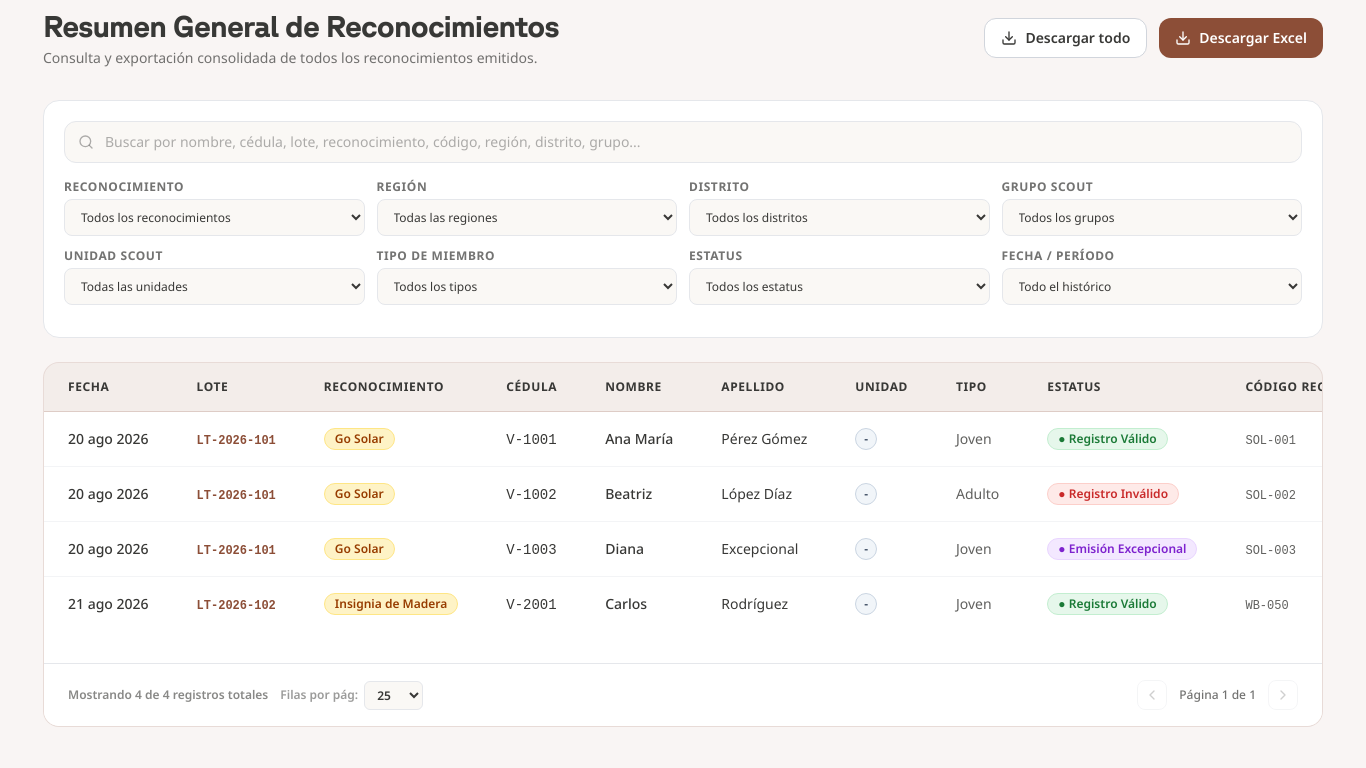
it: SummaryView component › filters by date period and custom date range
The image size is (1366, 768).
expect the text "V-1001" is shown: met, box [506,432,557,448]
Note: Predefined period: Este Año
Select "Este Año" in the dropdown named "Filtrar por período" at [1152, 286], box [1002,268,1302,305]
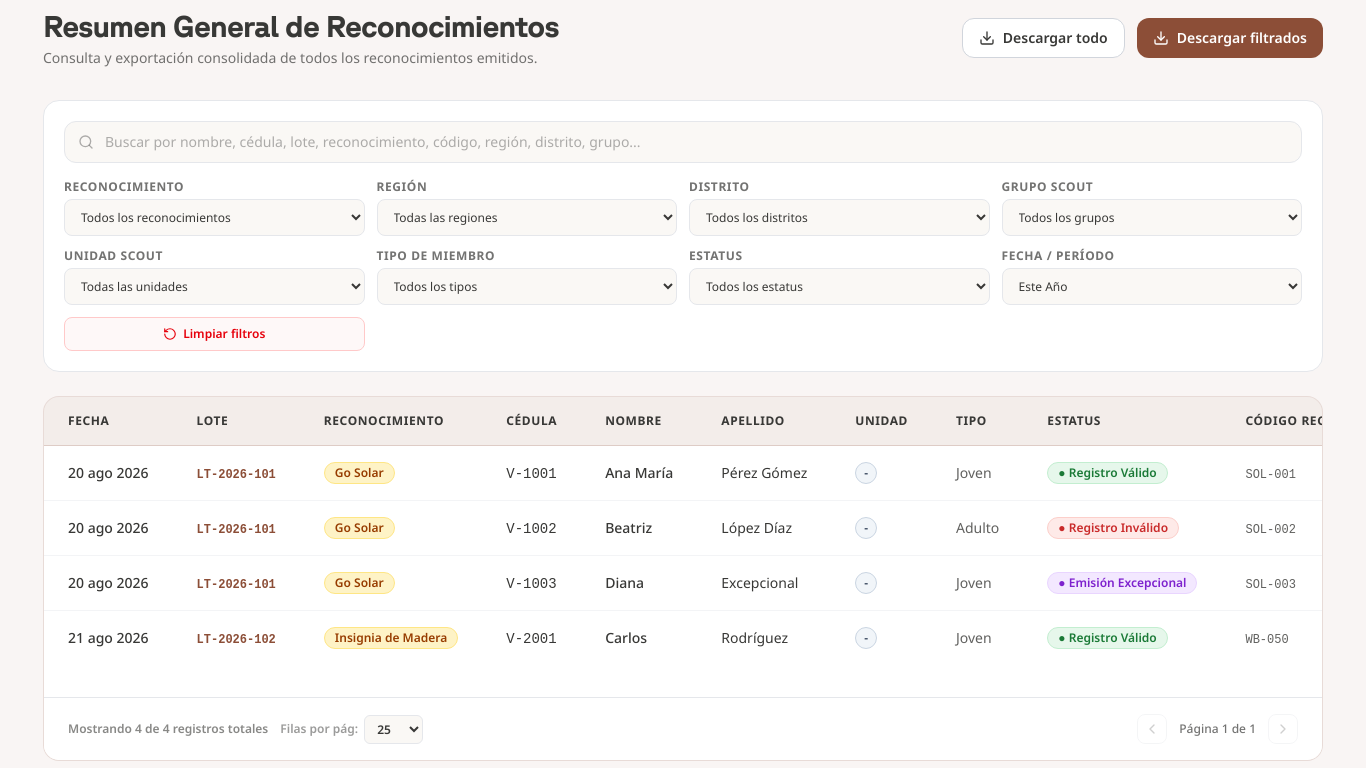
expect the text "V-1001" is shown: met, box [506,466,557,482]
Note: Custom date range
Select "Rango Personalizado" in the dropdown named "Filtrar por período" at [1152, 286], box [1002,268,1302,305]
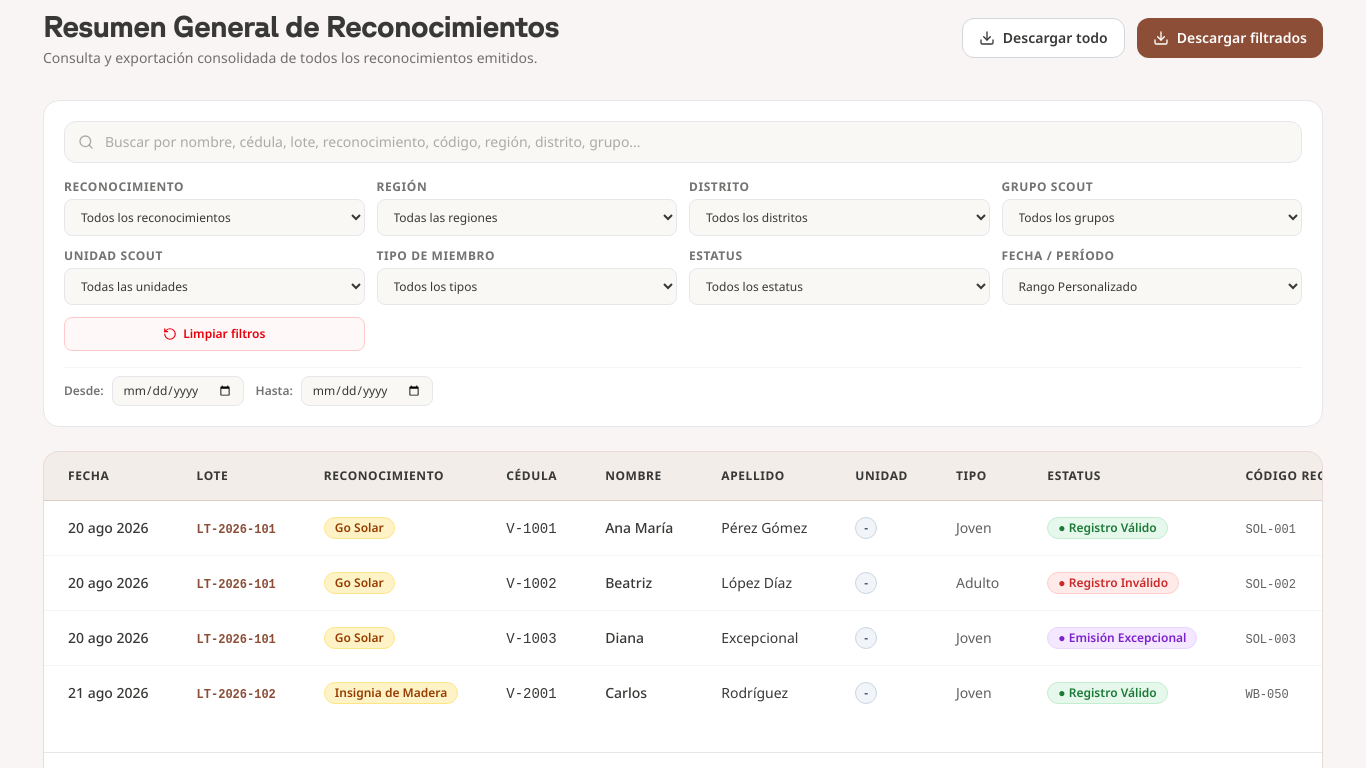
Type "2026-08-20" into the date field named "Fecha inicio personalizado" at [178, 391], box [112,376,244,406]
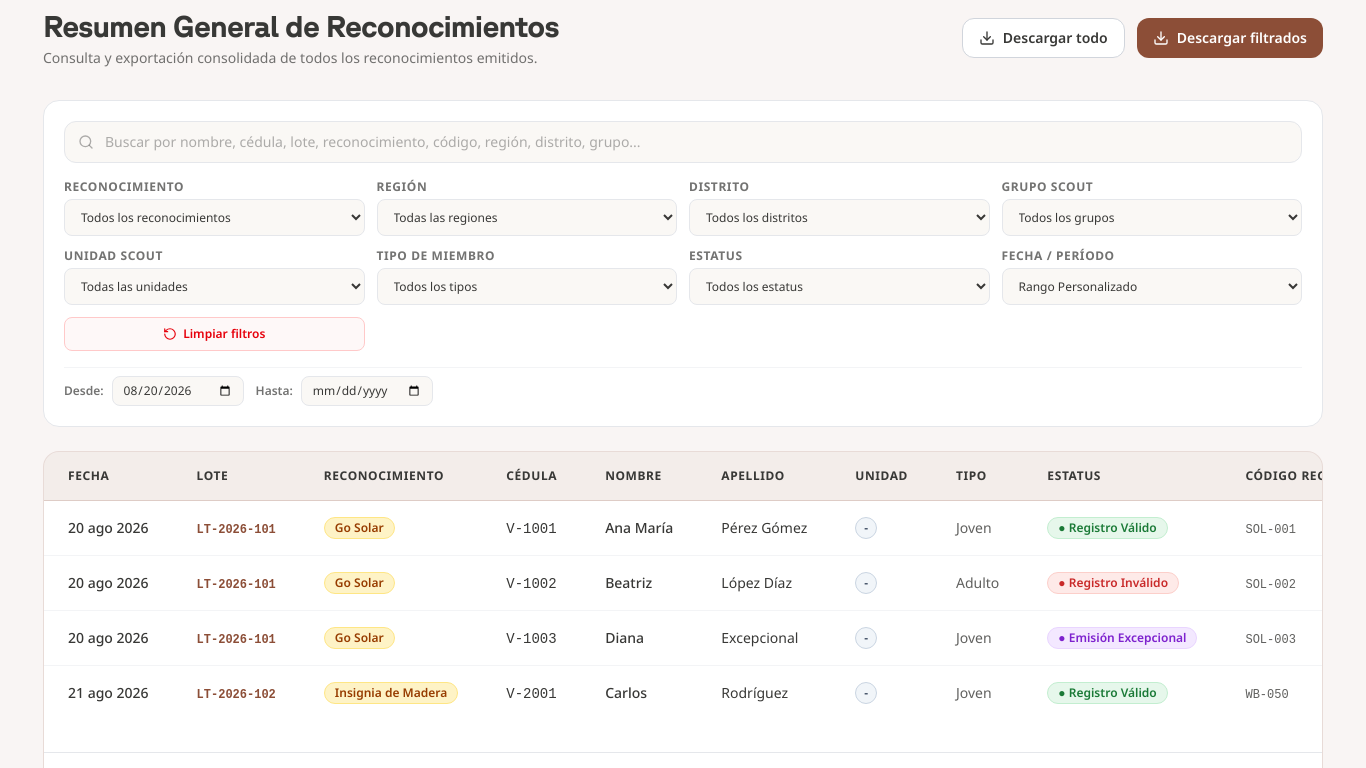
Type "2026-08-20" into the date field named "Fecha fin personalizado" at [367, 391], box [301,376,433,406]
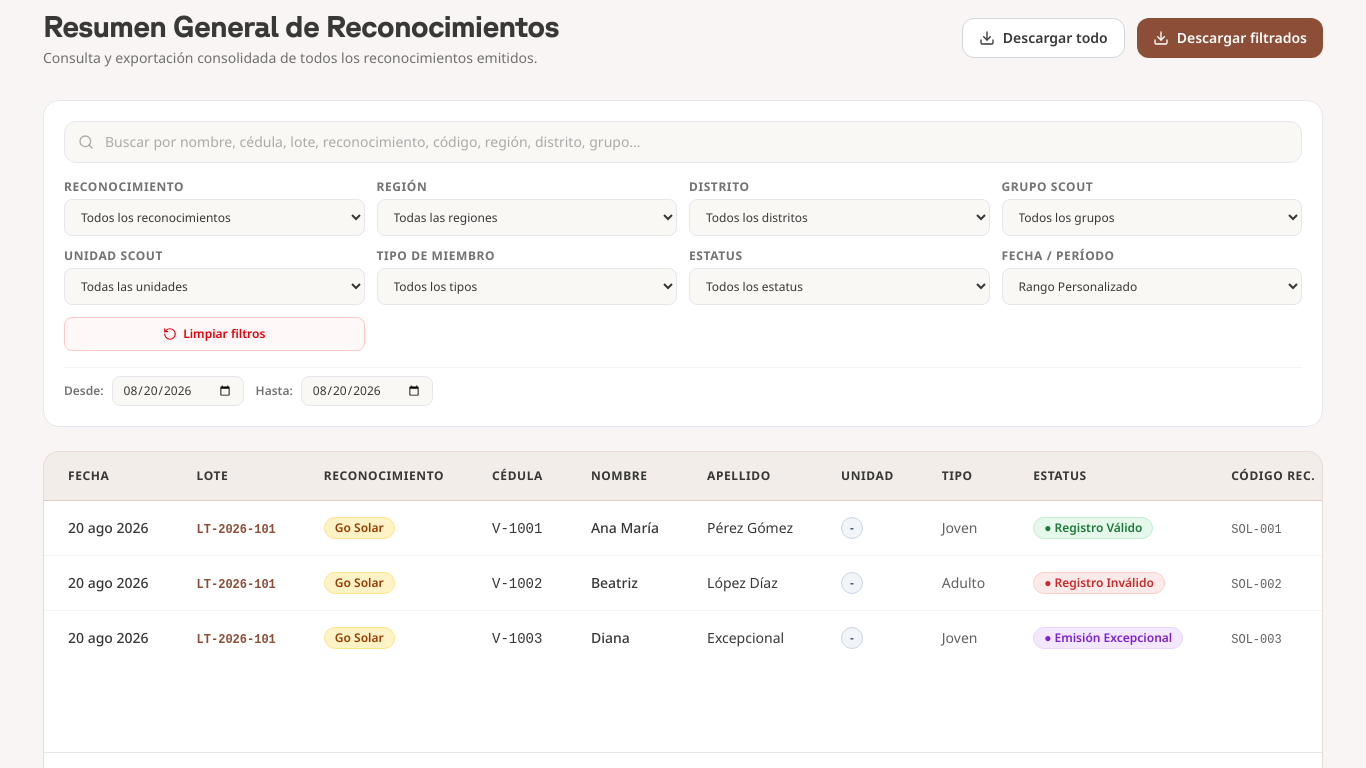
expect the text "V-1001" is shown: met, box [492,520,542,536]
expect the text "V-2001" is gone: met
